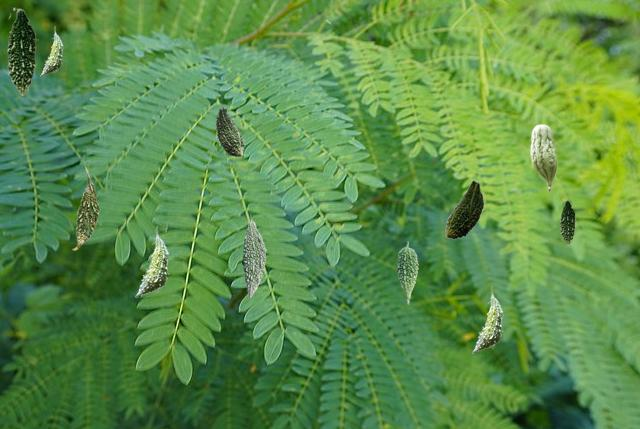ampalaya: (7, 7, 37, 95), (135, 226, 168, 296), (72, 166, 99, 249), (445, 180, 483, 238), (472, 286, 502, 352), (242, 214, 265, 297), (530, 124, 556, 190), (216, 106, 243, 155), (396, 241, 417, 303), (40, 26, 62, 75), (560, 199, 575, 244)
